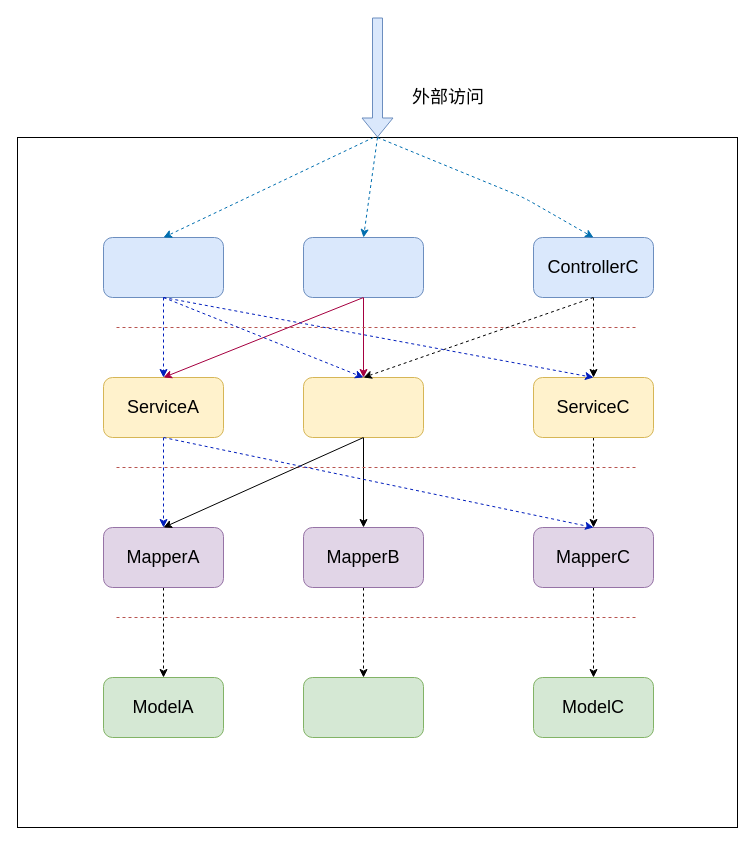
Some shapes in this 755 by 845 pixel diagram are drawn without their labels. The shapes that lost their labels are listed below. From the top down, each one's centre as x and y in pixels, then its label:
At point (163, 267): "ControllerA".
At point (363, 267): "ControllerB".
At point (363, 407): "ServiceB".
At point (363, 707): "ModelB".
